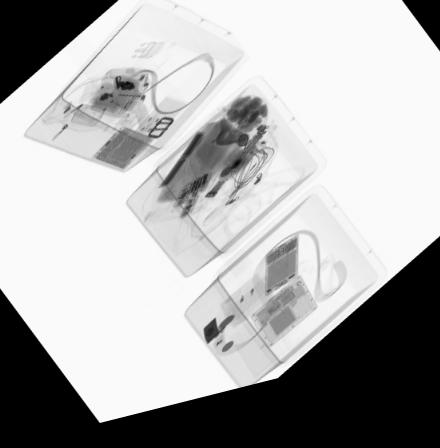Lighter: (140, 119, 161, 139)
